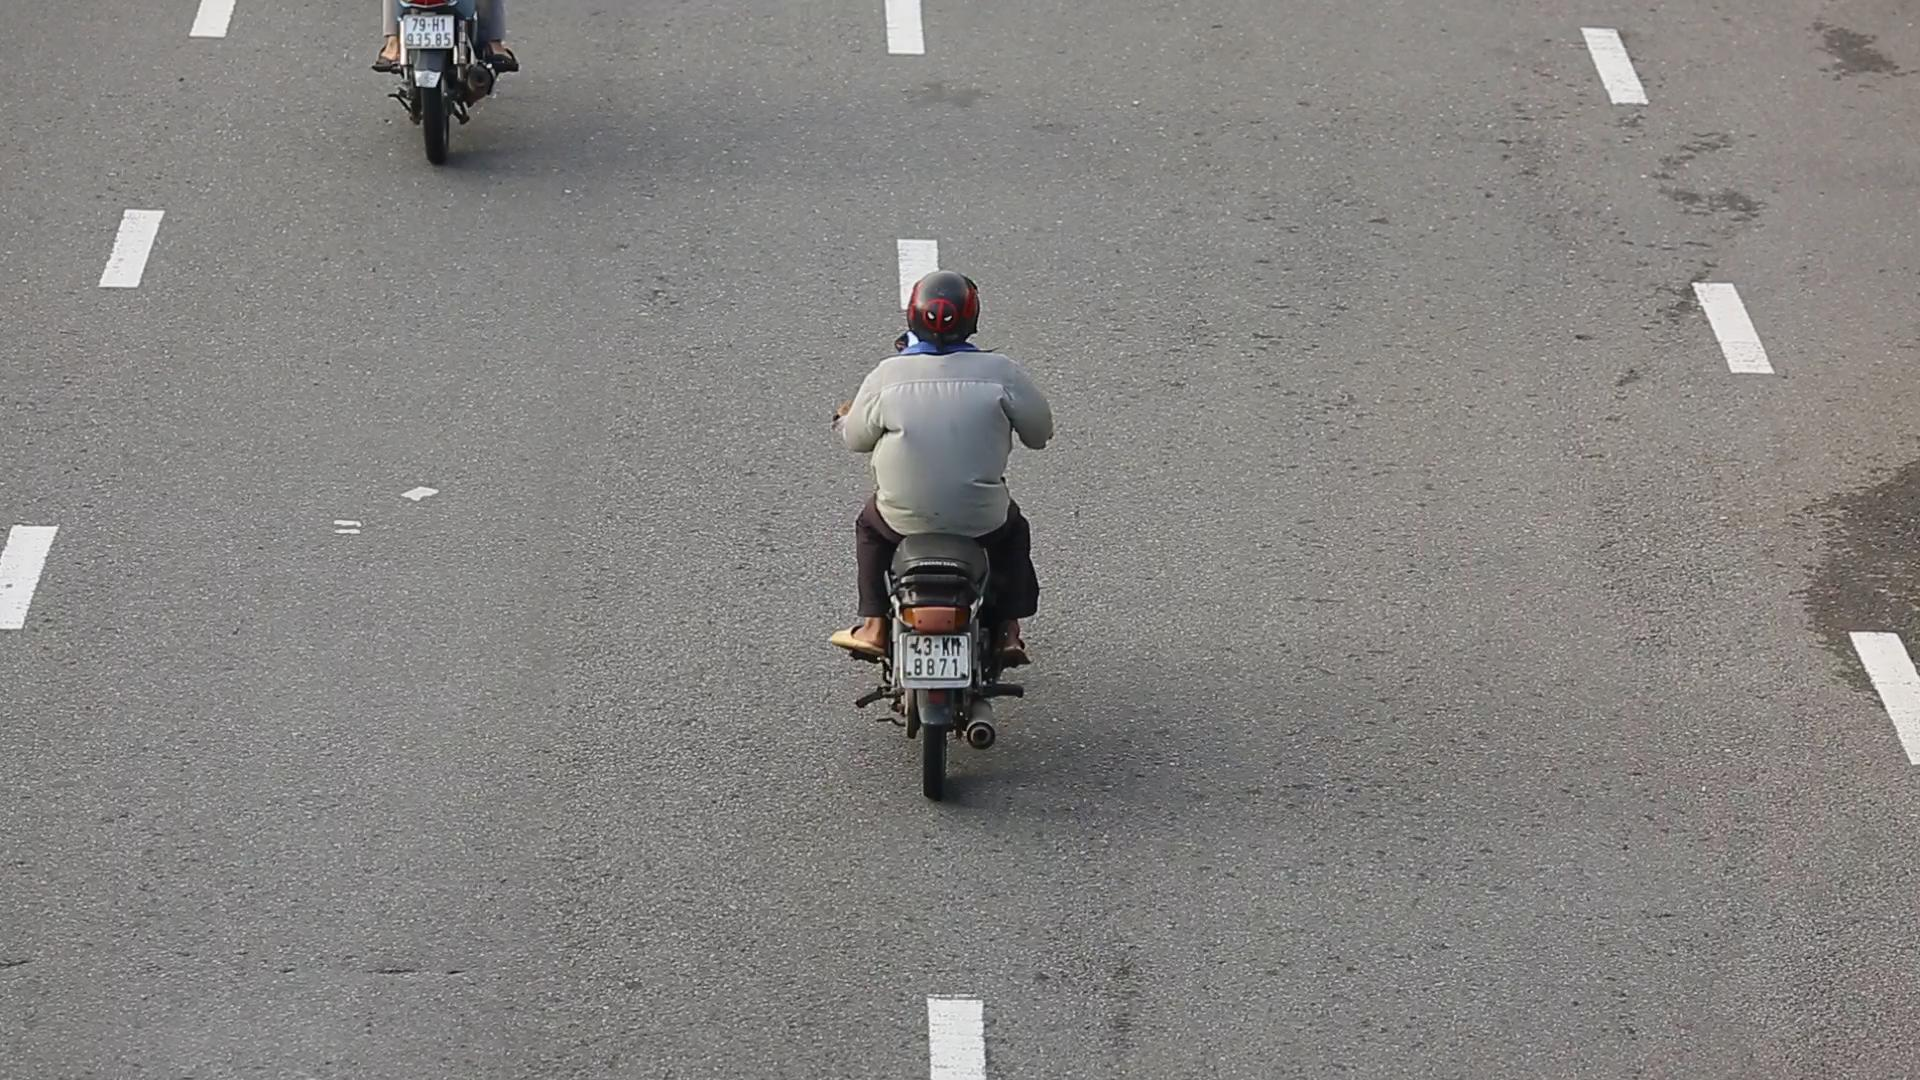motobike: (827, 257, 1050, 802)
